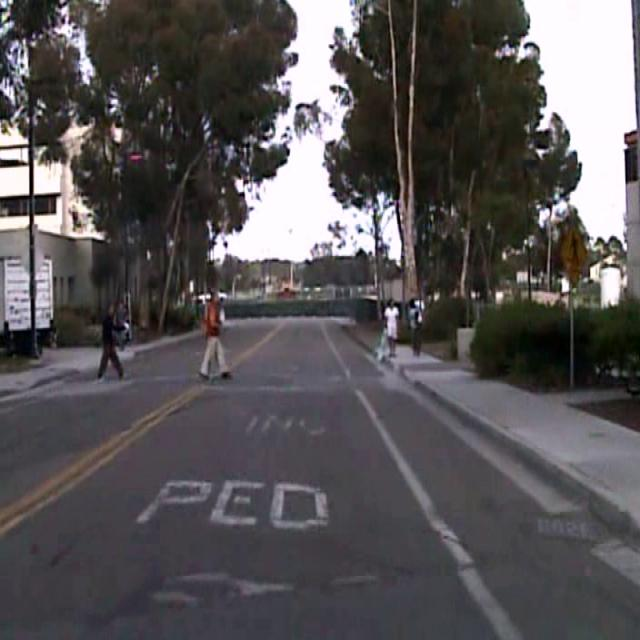pedestrianCrossing: (558, 221, 589, 280)
